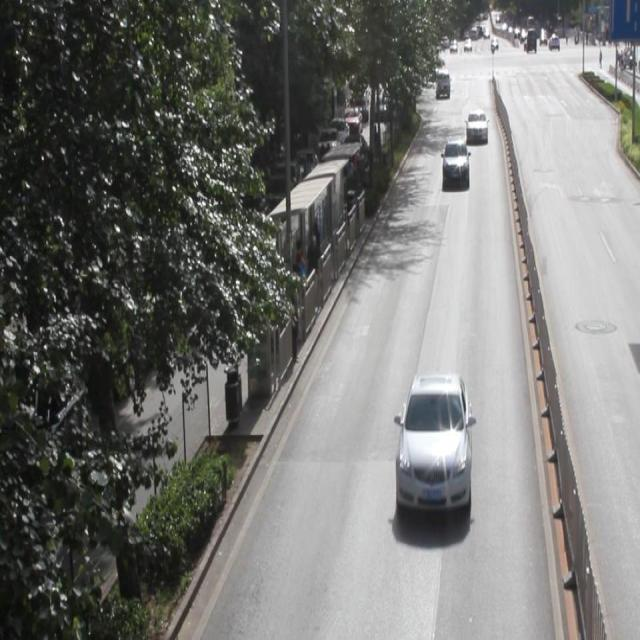car: (395, 372, 468, 515), (441, 138, 466, 184), (464, 108, 486, 140)
